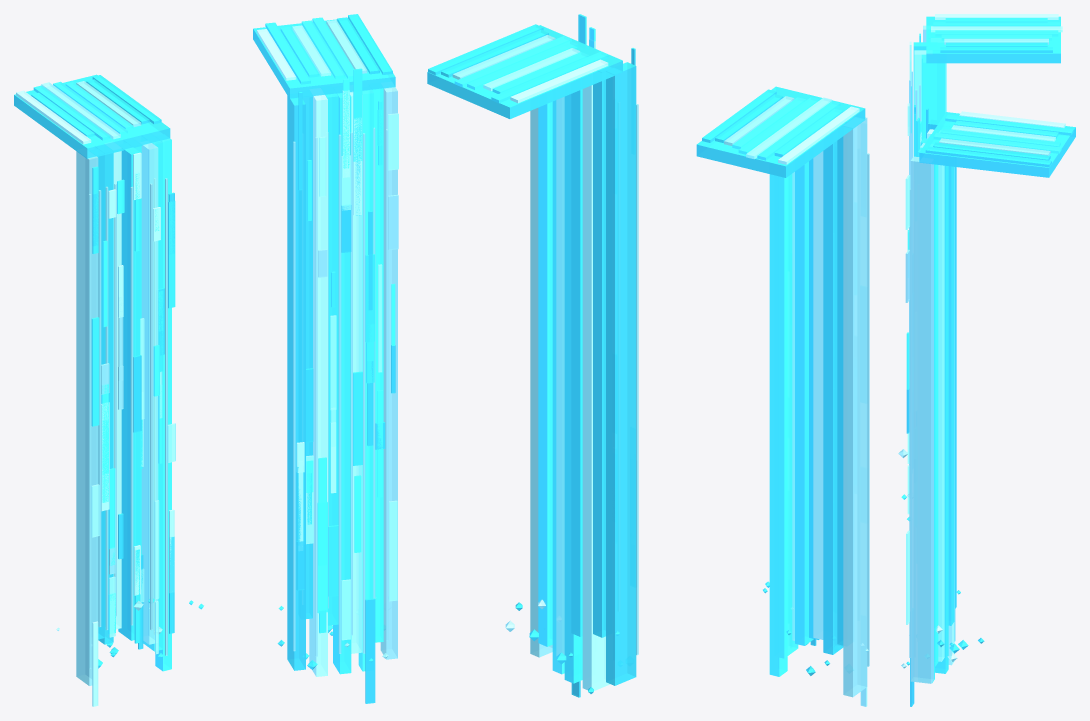
Rendered from WF-003-water.glb.
3 views of the same model, side by side, from view 1: azimuth 30°, elevation 25°; view 2: azimuth 150°, elevation 25°; view 3: azimuth 270°, elevation 25° (orthographic). The views are drawn at different scales.
Visible parts, largest first — view 1: Low-poly waterfall; view 2: Low-poly waterfall; view 3: Low-poly waterfall.
Boxes of the visible parts, x1,y1,x2,y2 form: Low-poly waterfall: [14, 14, 398, 706]; Low-poly waterfall: [427, 14, 869, 706]; Low-poly waterfall: [898, 14, 1075, 706].
Size of the model in its own units: 2.41 by 4.1 by 1.14.
